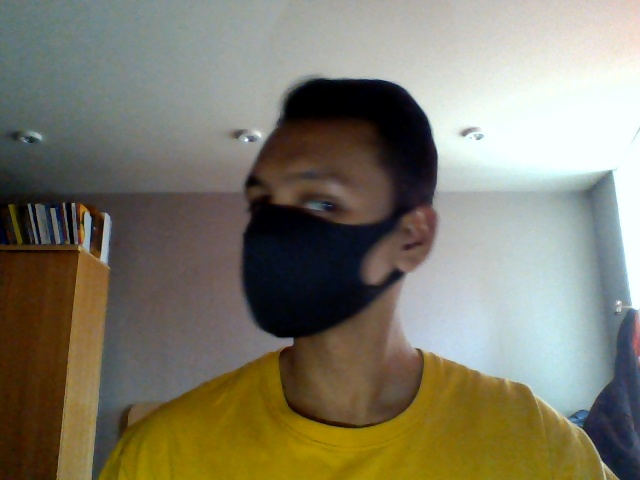mask: (244, 204, 385, 343)
